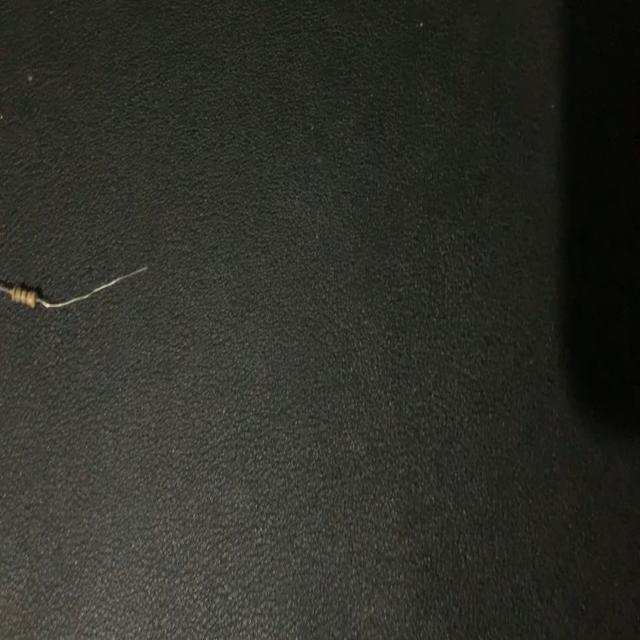resistor: (0, 248, 150, 311)
